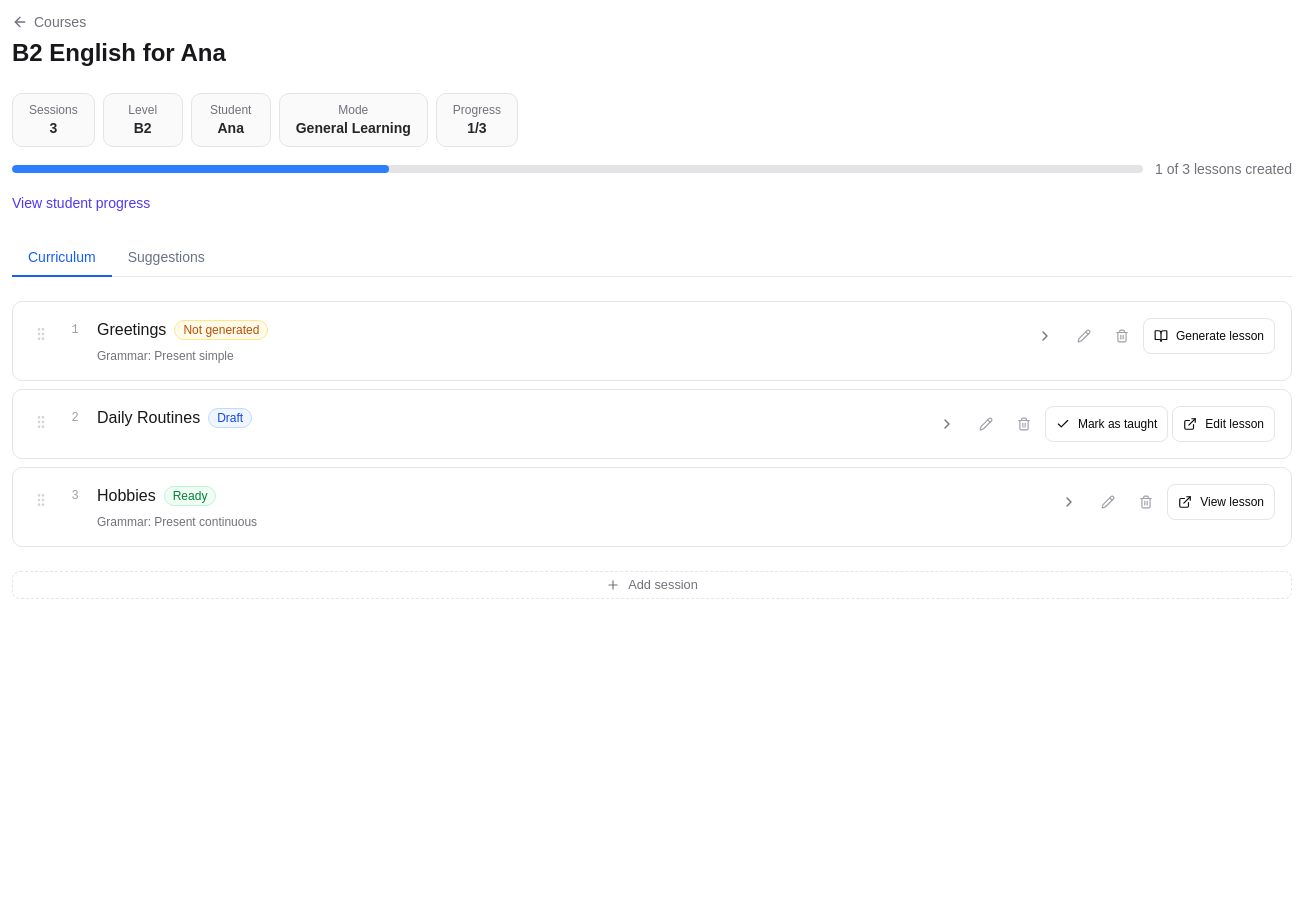
CourseDetail › clicking edit shows edit form
Step 1. Click the button with test id "edit-entry-0" → (1084, 336), box [1067,319,1101,353]
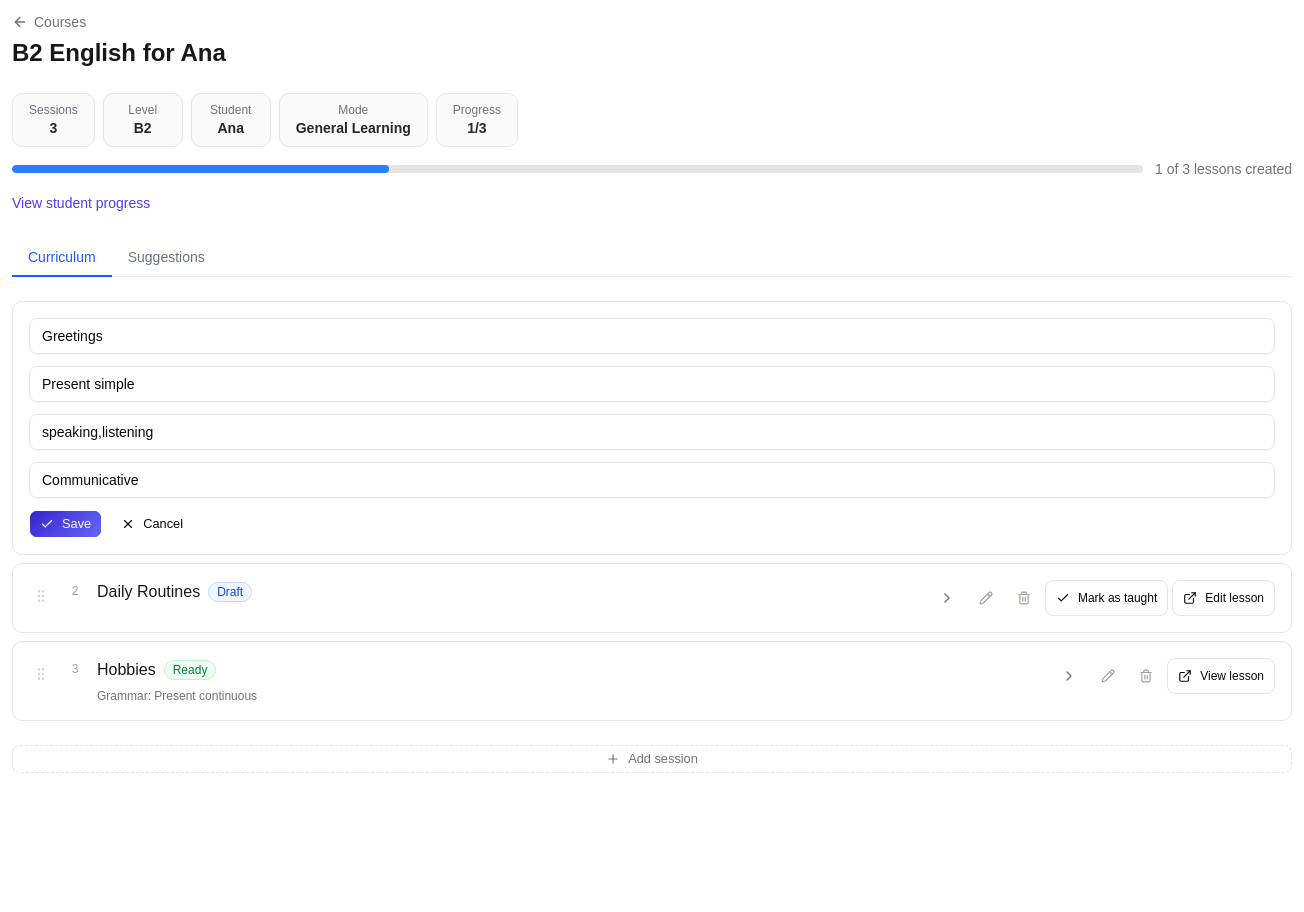
expect the field with test id "edit-topic" holds "Greetings": met, box [29,318,1275,354]
